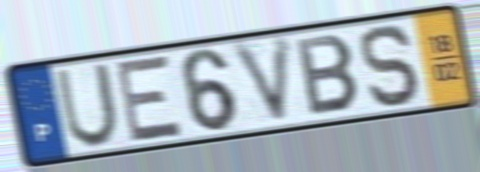6: (178, 46, 242, 135)
B: (293, 32, 363, 119)
E: (114, 52, 187, 146)
S: (358, 22, 426, 110)
U: (53, 60, 122, 150)
V: (227, 31, 296, 131)
